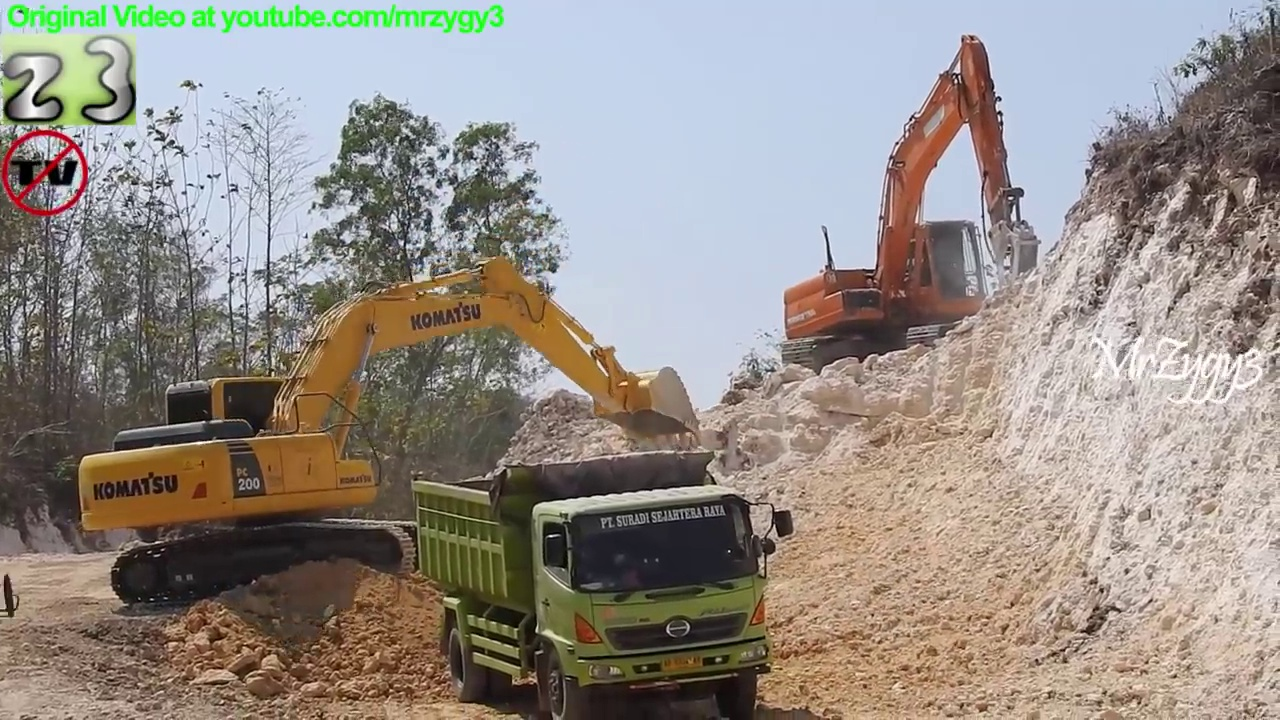excavator: (74, 257, 706, 623), (769, 31, 1047, 375)
truck: (402, 447, 801, 720)
